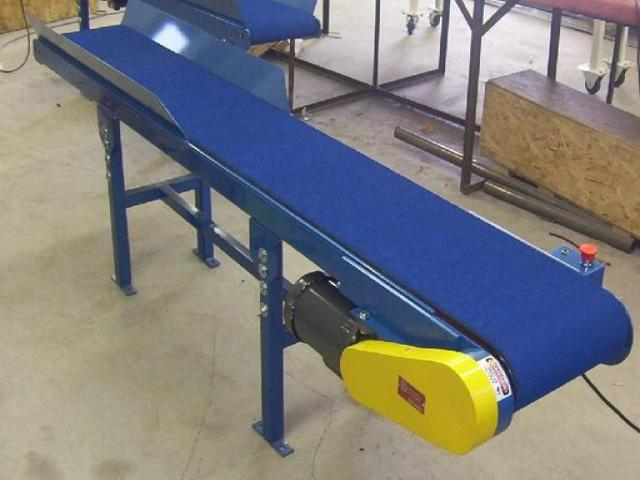conveyor: (20, 1, 635, 457)
